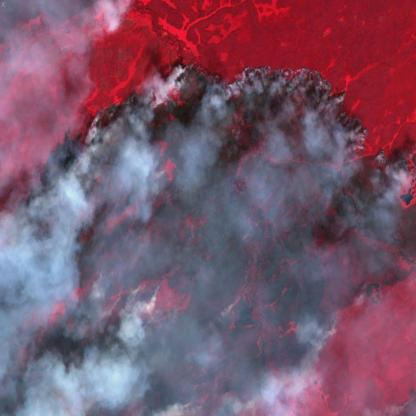fire: (0, 53, 416, 416)
